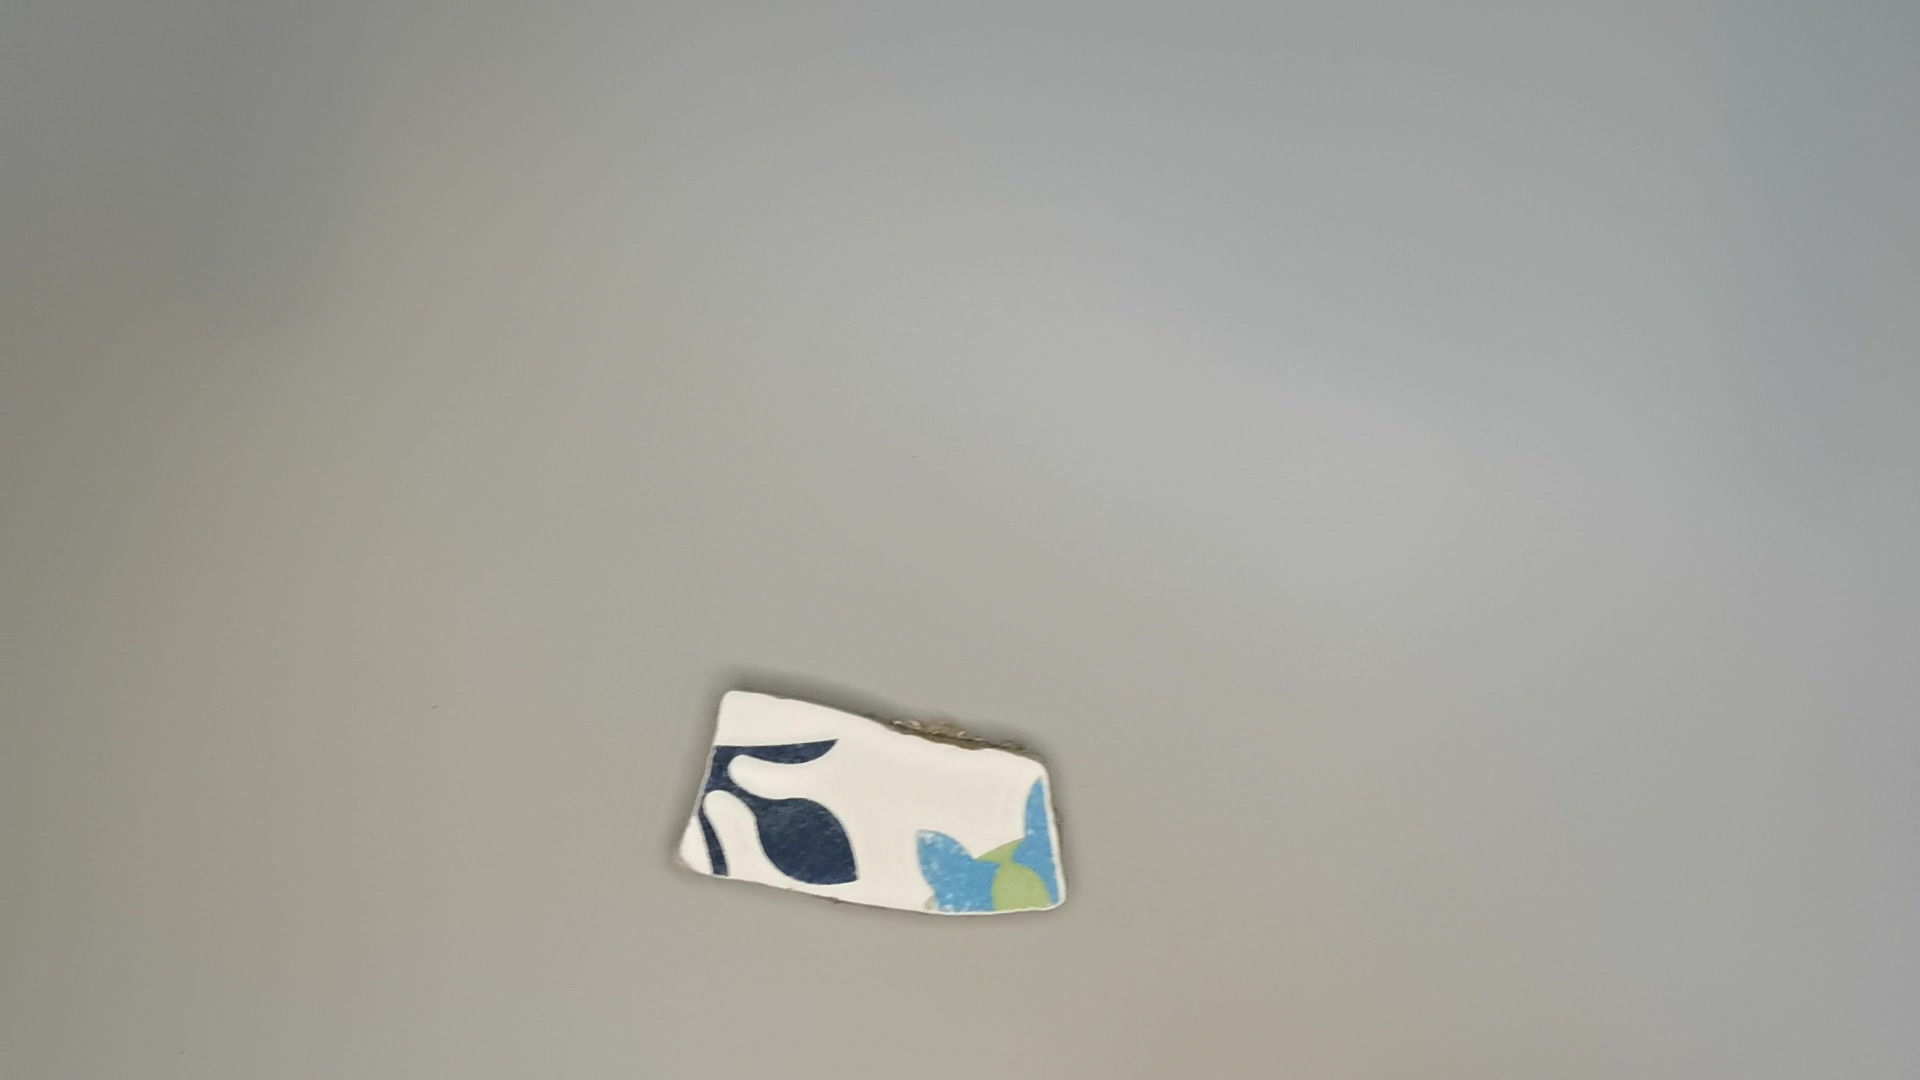ceramic: (667, 679, 1085, 922)
